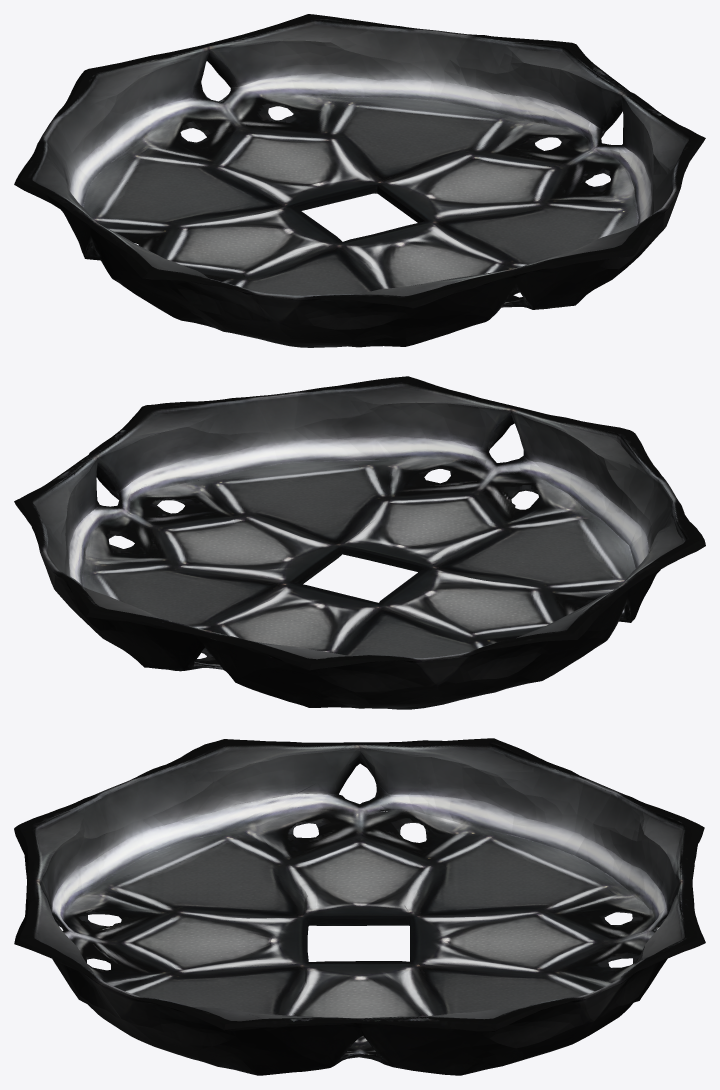
The model's file is ceramic-tray-futuristic.jpeg.glb.
3 views of the same model, one above another, from view 1: azimuth 30°, elevation 25°; view 2: azimuth 150°, elevation 25°; view 3: azimuth 270°, elevation 25° (orthographic). The views are drawn at different scales.
Visible parts, largest first — view 1: world; view 2: world; view 3: world.
Boxes of the visible parts, x1=… form: world: x1=14, y1=14, x2=705, y2=347; world: x1=14, y1=376, x2=705, y2=709; world: x1=14, y1=738, x2=705, y2=1075.
Bounding box in the file's own units: 0.9964 × 0.149 × 0.9978.
Materials: 1 (1 with a texture image).
